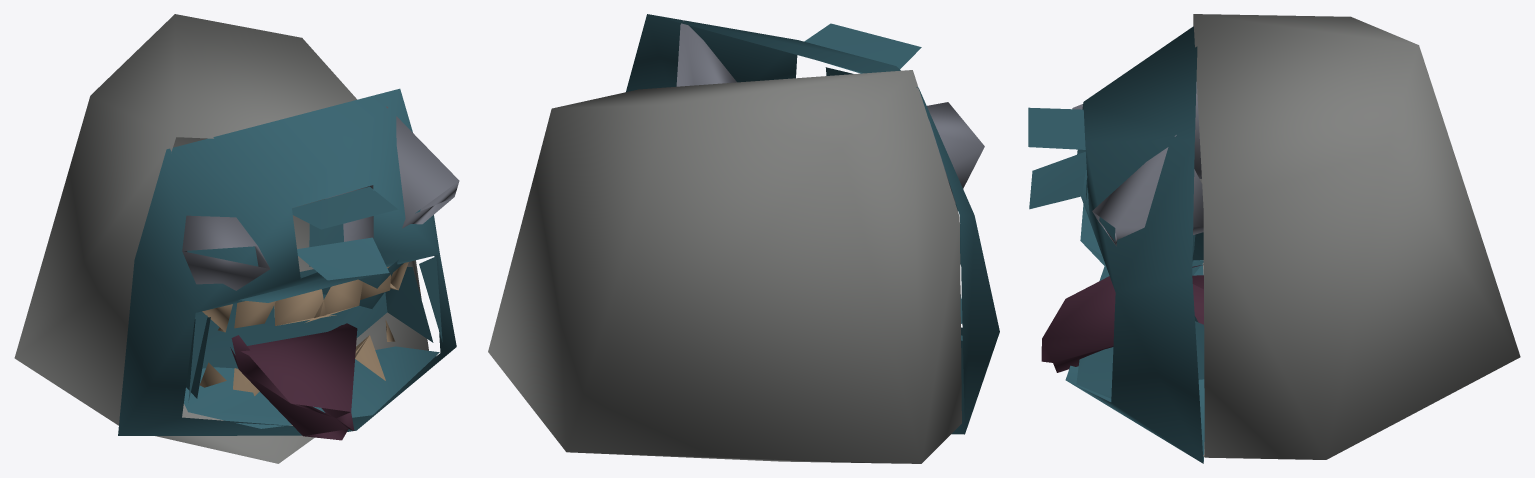
Rendered from yeti.aggregate.glb.
3 views of the same model, side by side, from view 1: azimuth 30°, elevation 25°; view 2: azimuth 150°, elevation 25°; view 3: azimuth 270°, elevation 25° (orthographic). The views are drawn at different scales.
Visible parts, largest first — view 1: HordeReadyRigidMesh; view 2: HordeReadyRigidMesh; view 3: HordeReadyRigidMesh.
Boxes of the visible parts, bbox=[...] form: HordeReadyRigidMesh: bbox=[14, 14, 459, 463]; HordeReadyRigidMesh: bbox=[488, 14, 999, 463]; HordeReadyRigidMesh: bbox=[1028, 14, 1520, 463].
Size of the model in its own units: 1.28 by 1.21 by 1.32.
